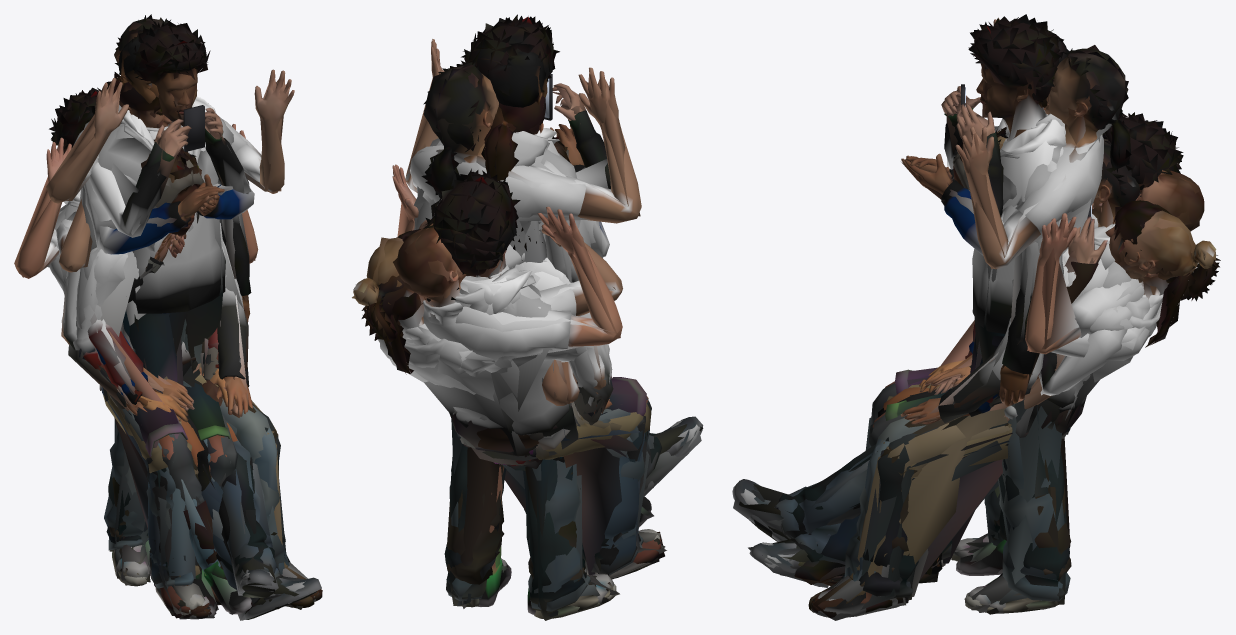
Rendered from floor_crowd.glb.
3 renders of one model, left to right at view 1: azimuth 30°, elevation 25°; view 2: azimuth 150°, elevation 25°; view 3: azimuth 270°, elevation 25°, orthographic. The views are drawn at different scales.
Visible parts, largest first — view 1: Fan22, Fan23, Fan20, Fan21, Fan02, FanFar22, Fan03, Fan06, Fan16, Fan04, Fan07, FanFar20 (+27 smaller); view 2: Fan20, Fan06, Fan01, Fan21, Fan22, Fan23, FanFar20, FanFar22, Fan14, FanFar03, FanFar06, Fan16 (+24 smaller); view 3: Fan20, Fan22, Fan16, Fan06, FanFar20, FanFar22, FanFar08, Fan21, Fan01, Fan14, Fan18, Fan07 (+25 smaller).
Part boxes in pixels (x1,y1,x2,y2): Fan22: [79, 20, 251, 577]; Fan23: [90, 72, 249, 576]; Fan20: [46, 14, 294, 576]; Fan21: [84, 36, 254, 586]; Fan02: [76, 147, 321, 619]; FanFar22: [79, 25, 249, 580]; Fan03: [63, 240, 252, 613]; Fan06: [15, 124, 314, 608]; Fan16: [126, 383, 251, 615]; Fan04: [56, 199, 293, 618]; Fan07: [73, 241, 305, 603]; FanFar20: [50, 22, 290, 582]; Fan20: [405, 39, 641, 611]; Fan06: [392, 164, 649, 536]; Fan01: [423, 168, 586, 435]; Fan21: [437, 41, 616, 618]; Fan22: [414, 14, 613, 604]; Fan23: [477, 74, 610, 614]; FanFar20: [406, 41, 640, 617]; FanFar22: [414, 25, 617, 615]; Fan14: [361, 219, 651, 452]; FanFar03: [504, 360, 664, 575]; FanFar06: [392, 167, 638, 532]; Fan16: [387, 229, 651, 527]; Fan20: [955, 18, 1131, 613]; Fan22: [954, 14, 1071, 613]; Fan16: [872, 200, 1195, 427]; Fan06: [808, 170, 1204, 612]; FanFar20: [951, 19, 1129, 614]; FanFar22: [955, 22, 1070, 612]; FanFar08: [813, 365, 1005, 617]; Fan21: [901, 28, 1069, 610]; Fan01: [817, 110, 1183, 602]; Fan14: [869, 203, 1220, 446]; Fan18: [1088, 210, 1216, 334]; Fan07: [740, 353, 1043, 569].
Size of the model in its own units: 0.851 by 1.86 by 1.45.
